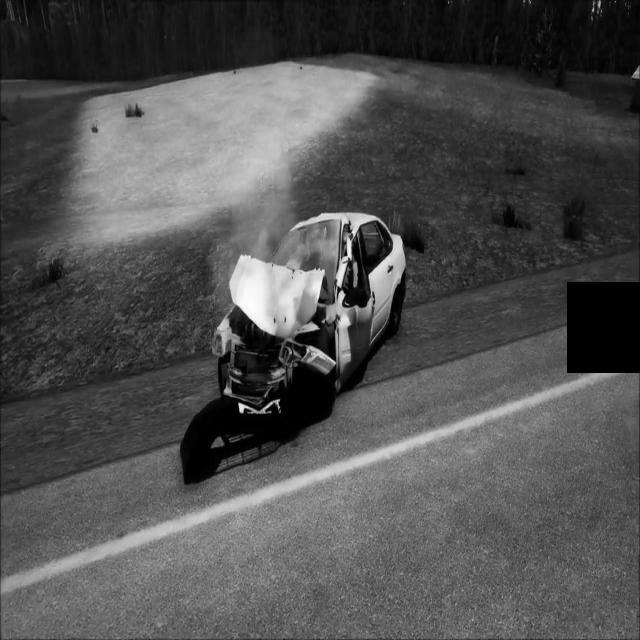severe: (180, 205, 410, 488)
